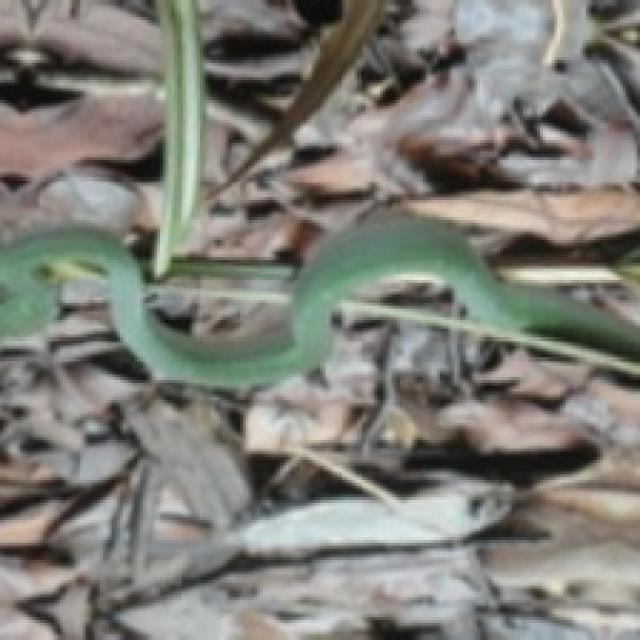north ph temple pitviper: (0, 217, 637, 386)
